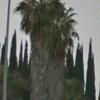Palm tree: (22, 2, 75, 89)
